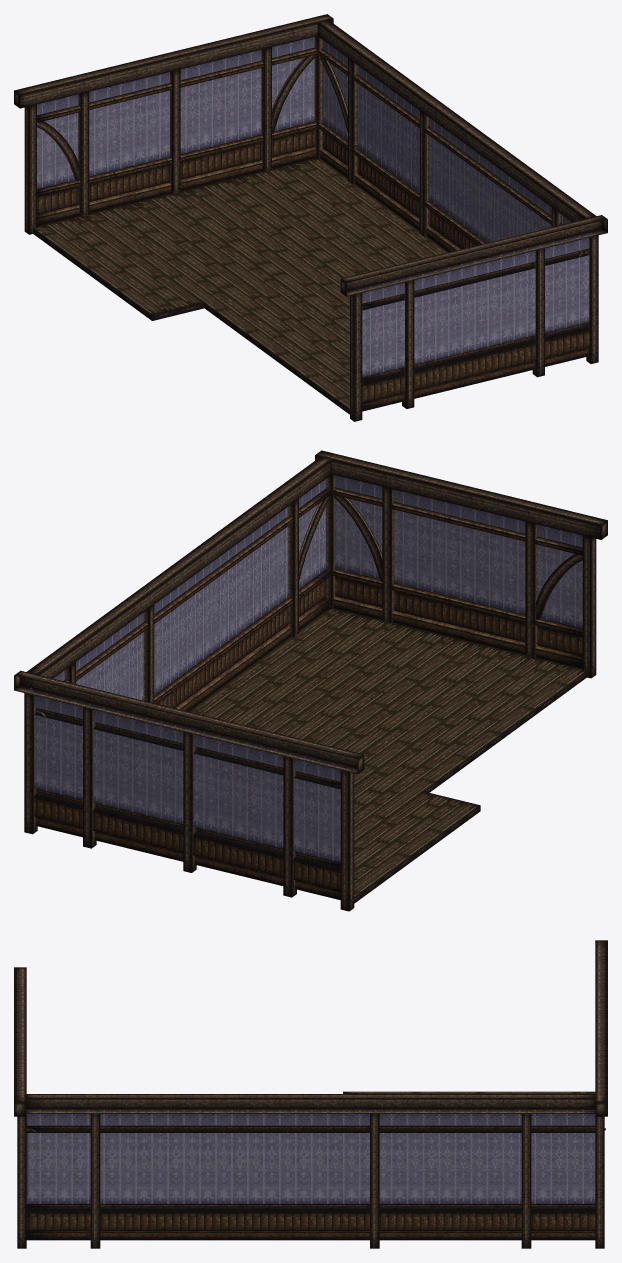
The model's file is EnvBdgMD_City_C_Indoor_Pub.FBX.
3 views of the same model, one above another, from view 1: azimuth 30°, elevation 25°; view 2: azimuth 150°, elevation 25°; view 3: azimuth 270°, elevation 25° (orthographic). The views are drawn at different scales.
Visible parts, largest first — view 1: EnvBdgMD_City_C_Indoor_Pub; view 2: EnvBdgMD_City_C_Indoor_Pub; view 3: EnvBdgMD_City_C_Indoor_Pub.
Part boxes in pixels (box(x1,y1,x2,y2)): EnvBdgMD_City_C_Indoor_Pub: box(14, 14, 607, 421); EnvBdgMD_City_C_Indoor_Pub: box(14, 450, 607, 911); EnvBdgMD_City_C_Indoor_Pub: box(14, 940, 607, 1248).
Size of the model in its own units: 1200 by 520 by 1860.
